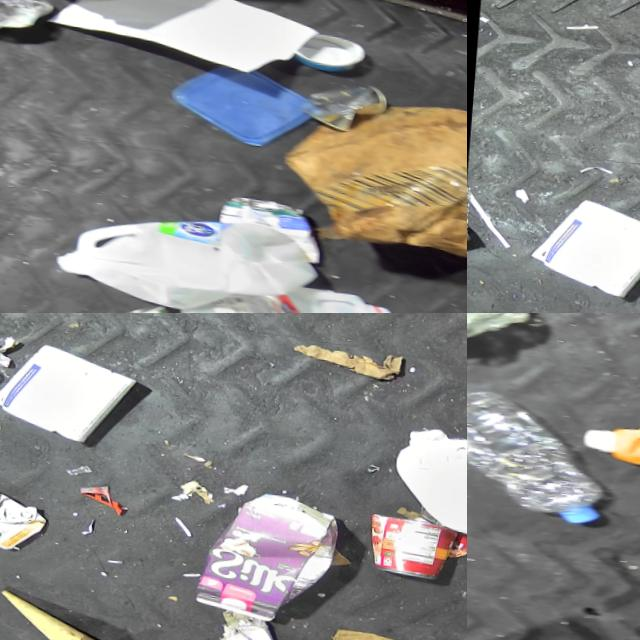can: (364, 503, 459, 574), (300, 67, 390, 127), (101, 288, 220, 313)
milk_jug: (51, 188, 324, 313), (174, 259, 394, 313), (389, 412, 467, 540)
non_white_jug: (195, 479, 343, 623), (579, 379, 640, 479), (0, 466, 50, 551)
plastic_bottle: (467, 376, 615, 524), (0, 0, 57, 36)
